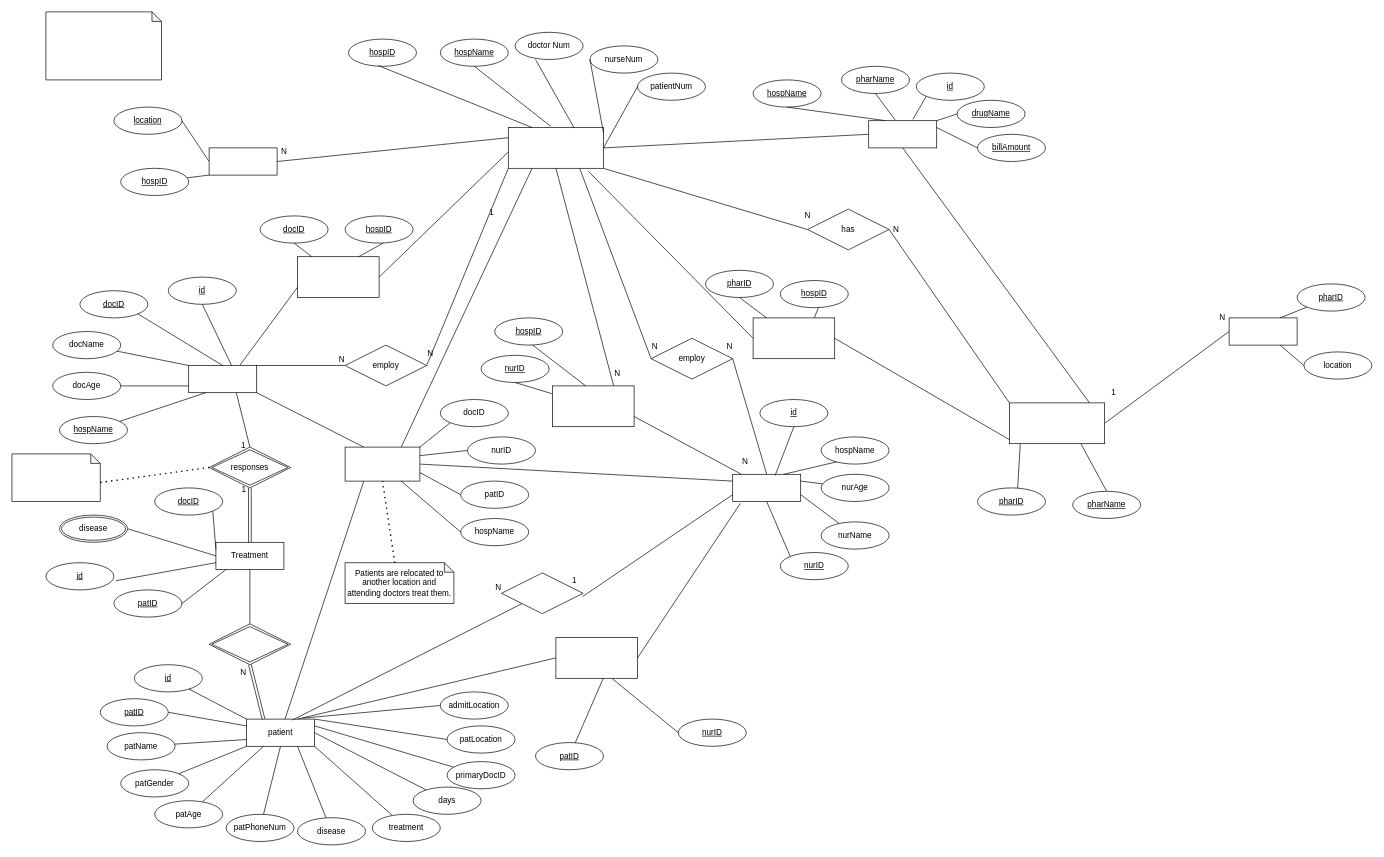
This 1384x857 diagram has some shape labels left out. The centre of each missing label's shape, as x and y in pixels:
"A primary doctor responses for one treatment." belongs at point (55, 477).
"admission" belongs at point (382, 463).
"divides" belongs at point (249, 644).
"doctor" belongs at point (222, 379).
"drugOrder" belongs at point (902, 134).
"hospDoc" belongs at point (338, 277).
"Hospital" belongs at point (556, 147).
"HospLocations" belongs at point (242, 161).
"hospNur" belongs at point (593, 406).
"hospPhar" belongs at point (793, 338).
"Made by: Xiaorui Zhang Andy Pang" belongs at point (103, 45).
"Nurses" belongs at point (766, 488).
"nurTakeCarePat" belongs at point (596, 657).
"pharLocations" belongs at point (1262, 331).
"pharmacy" belongs at point (1057, 423).
"takeCare" belongs at point (542, 593).
